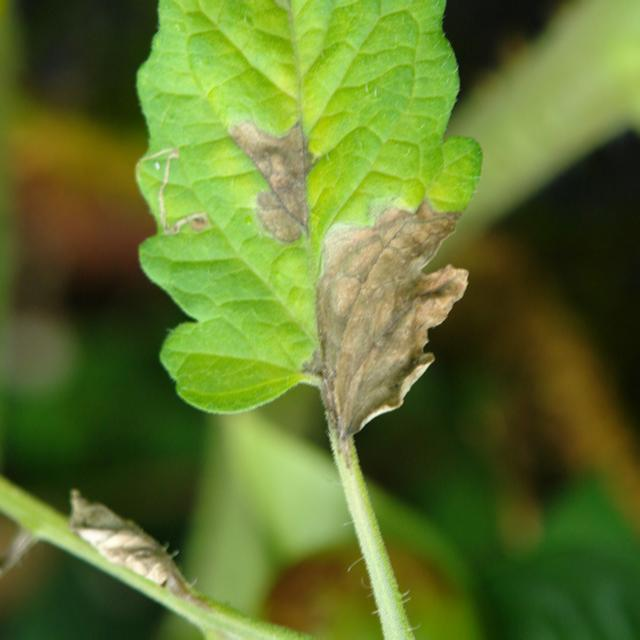Tomato leaf late blight: (123, 0, 491, 438)
